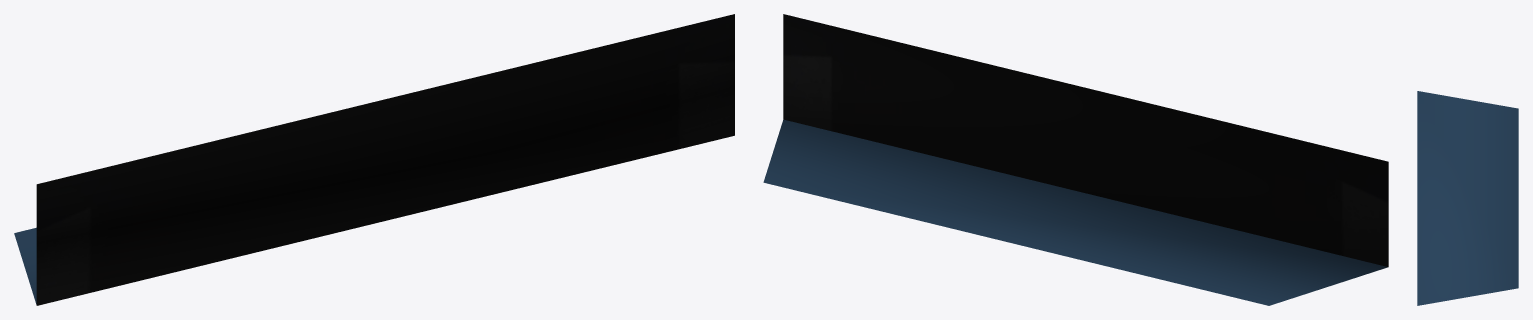
Rendered from FUS0110007.fbx.
3 views of the same model, side by side, from view 1: azimuth 30°, elevation 25°; view 2: azimuth 150°, elevation 25°; view 3: azimuth 270°, elevation 25° (orthographic). The views are drawn at different scales.
Parts seen in each view (by area): view 1: smFUS0110007; view 2: smFUS0110007; view 3: smFUS0110007.
Part boxes in pixels (<box>): smFUS0110007: <box>14,14,734,305</box>; smFUS0110007: <box>763,14,1388,305</box>; smFUS0110007: <box>1417,91,1518,305</box>.
Size of the model in its own units: 4181 by 697 by 833.
1 material, 1 textured.
